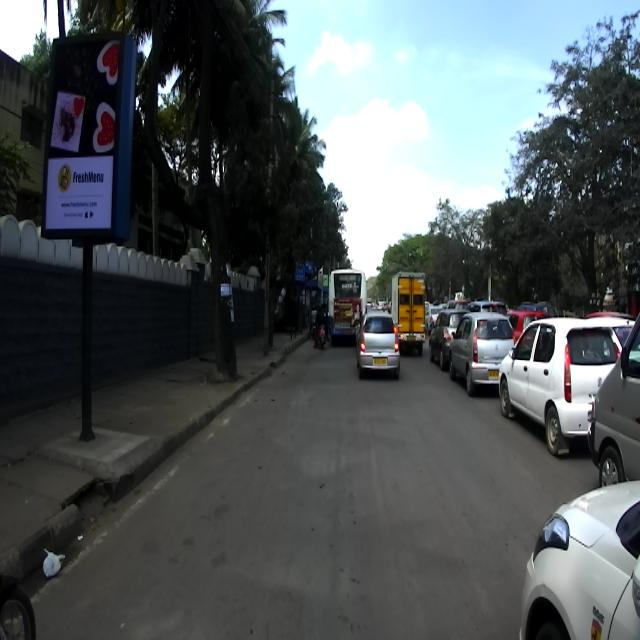barrier ahead at: (40, 26, 141, 462)
car ahead at: (352, 310, 403, 384)
